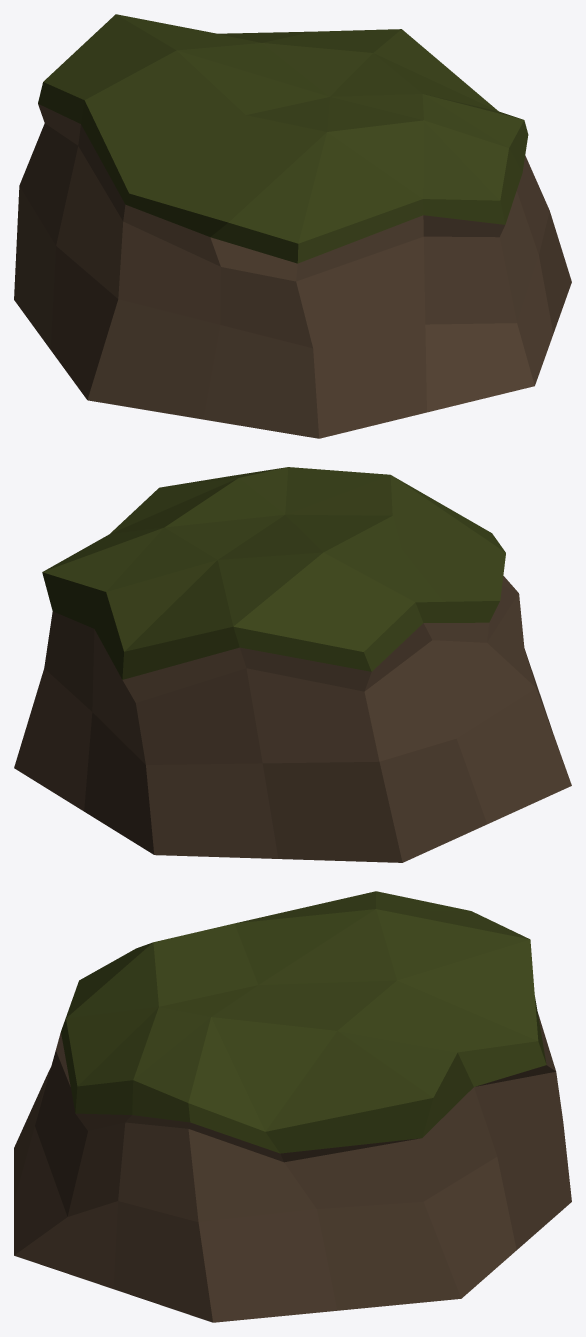
File: large-mud.fbx
3 renders of one model, top to bottom at view 1: azimuth 30°, elevation 25°; view 2: azimuth 150°, elevation 25°; view 3: azimuth 270°, elevation 25°, orthographic. The views are drawn at different scales.
Visible parts, largest first — view 1: large-mud; view 2: large-mud; view 3: large-mud.
Boxes of the visible parts, x1,y1,x2,y2 form: large-mud: [14, 14, 571, 438]; large-mud: [14, 467, 571, 862]; large-mud: [14, 891, 571, 1322].
Bounding box in the file's own units: 1.89 × 0.935 × 1.85.
